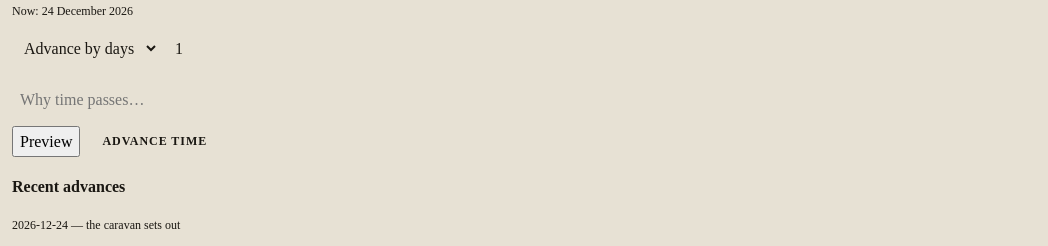
skips to a date instead of a duration when asked
This screenshot has width=1048, height=246.
Expected: the text "Now: 24 December 2026" is shown, [12,4,133,18]
Select "Skip to a date" in the dropdown named "Advance by": (86, 48) [12,31,159,66]
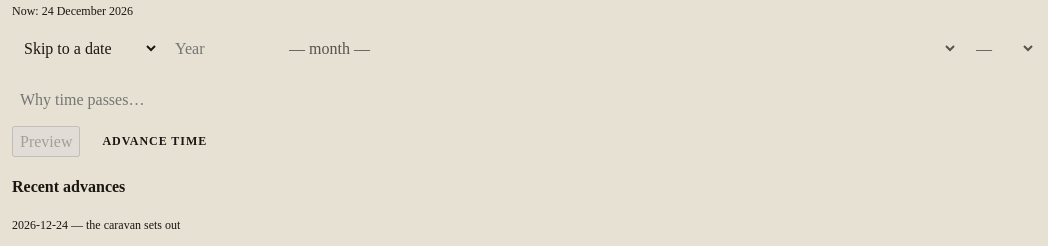
Expected: the number field labelled "Days" is gone
Expected: the number field named "Skip to year" is shown, [167,31,271,66]
Expected: the button "Preview" is disabled, [12,126,80,157]
